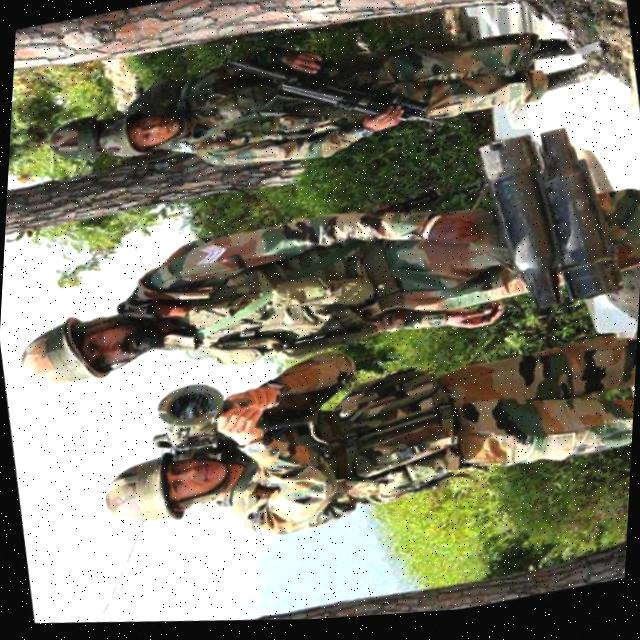rocket: (458, 120, 628, 336)
